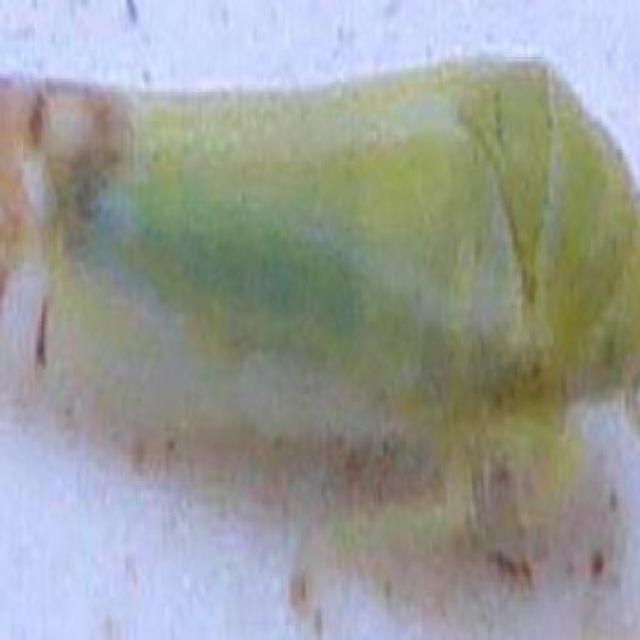green-leafhopper: (7, 63, 638, 448)
